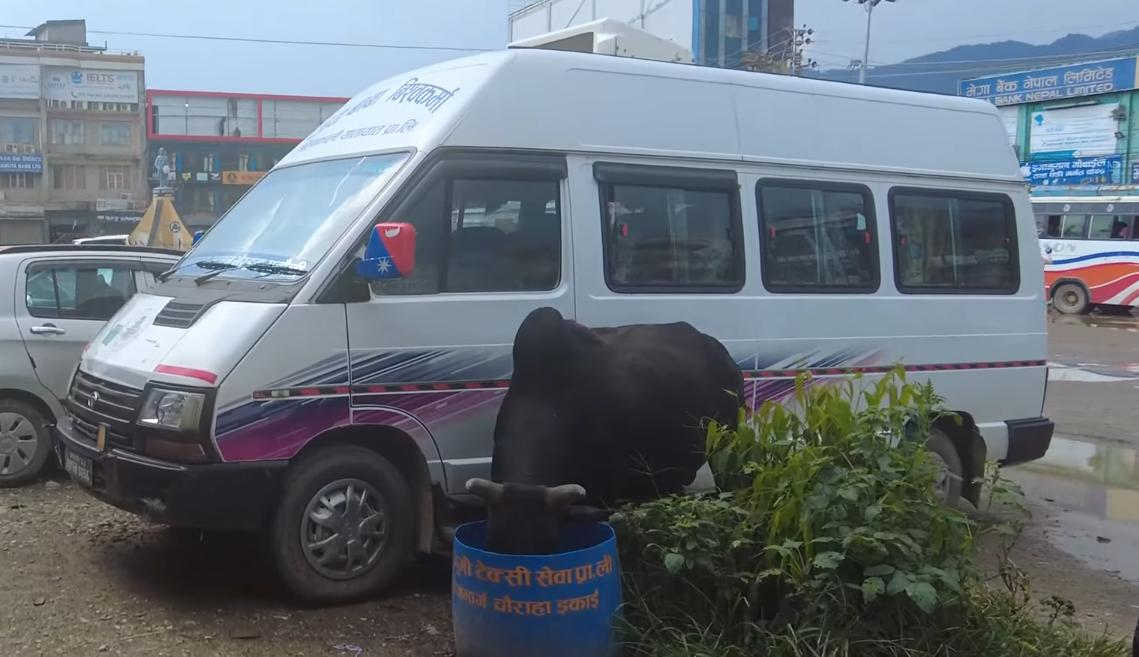bus: (1027, 179, 1139, 326)
micro_bus: (36, 43, 1058, 609)
